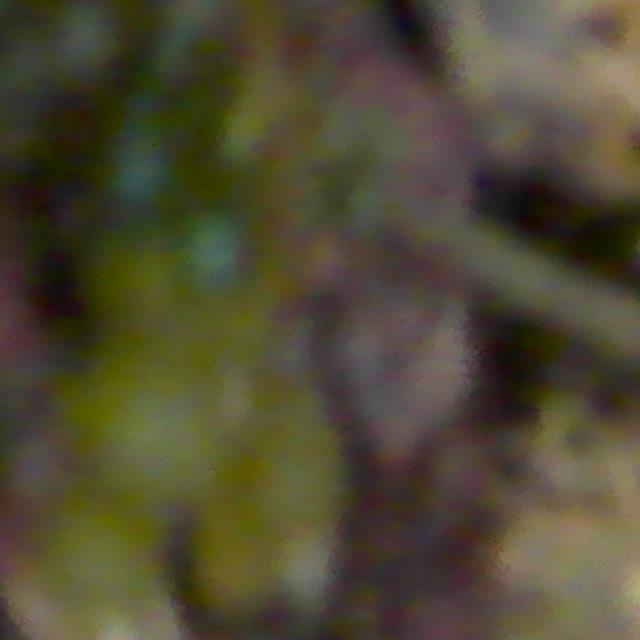SeaGrape: (175, 209, 257, 296), (45, 0, 127, 81), (105, 137, 180, 211)
